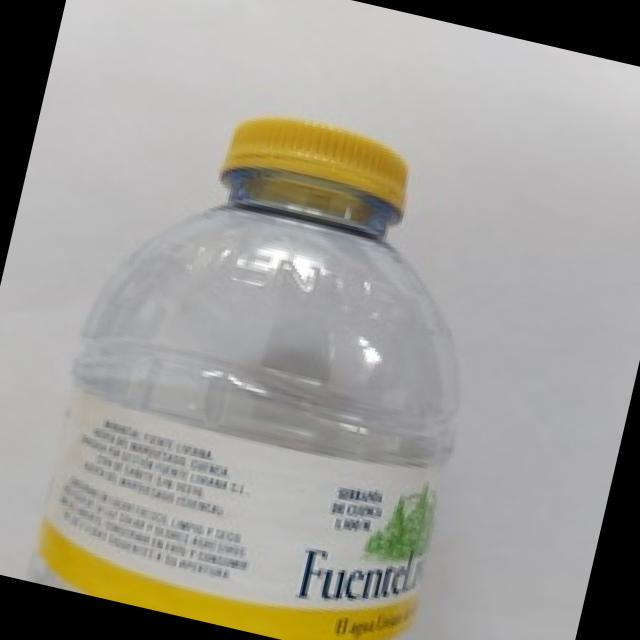good: (1, 43, 568, 640)
